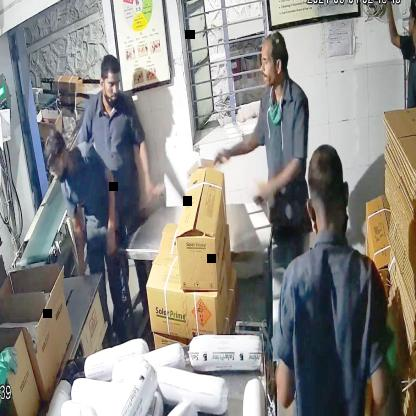no_goggles: (256, 51, 288, 73), (96, 77, 127, 96)
